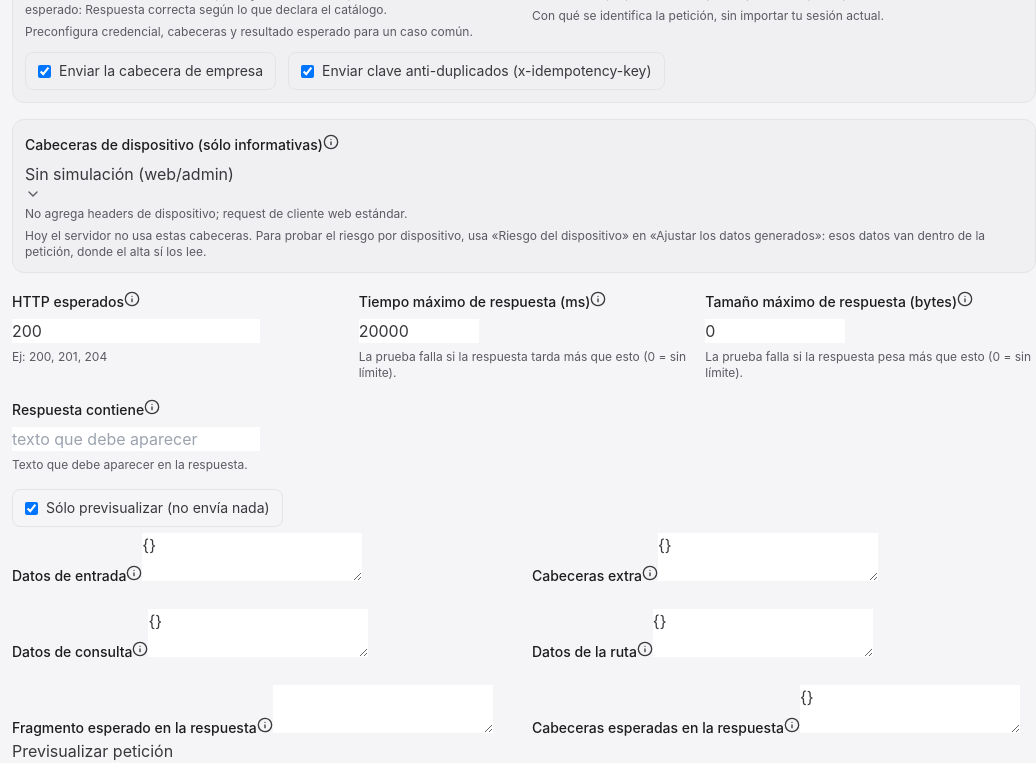
EndpointTestCard · errores visibles (RESUELTO_ATLAS_F1_R7) › un formulario inválido se rechaza ANTES de abrir el diálogo, y se lee
The image size is (1036, 763).
(page scrolled)
Replace the text in the text box labelled "Datos de entrada" with "no soy json": (252, 557) [142, 533, 362, 581]
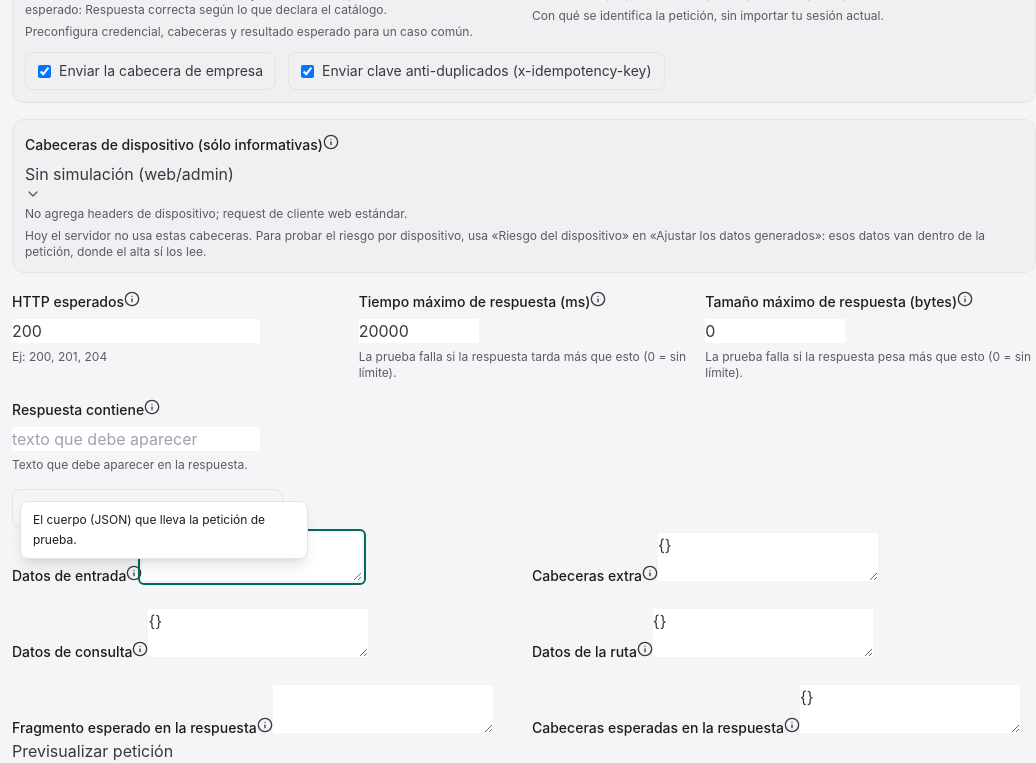
Click the button "Previsualizar petición": (93, 751) [12, 739, 173, 762]
(page scrolled)
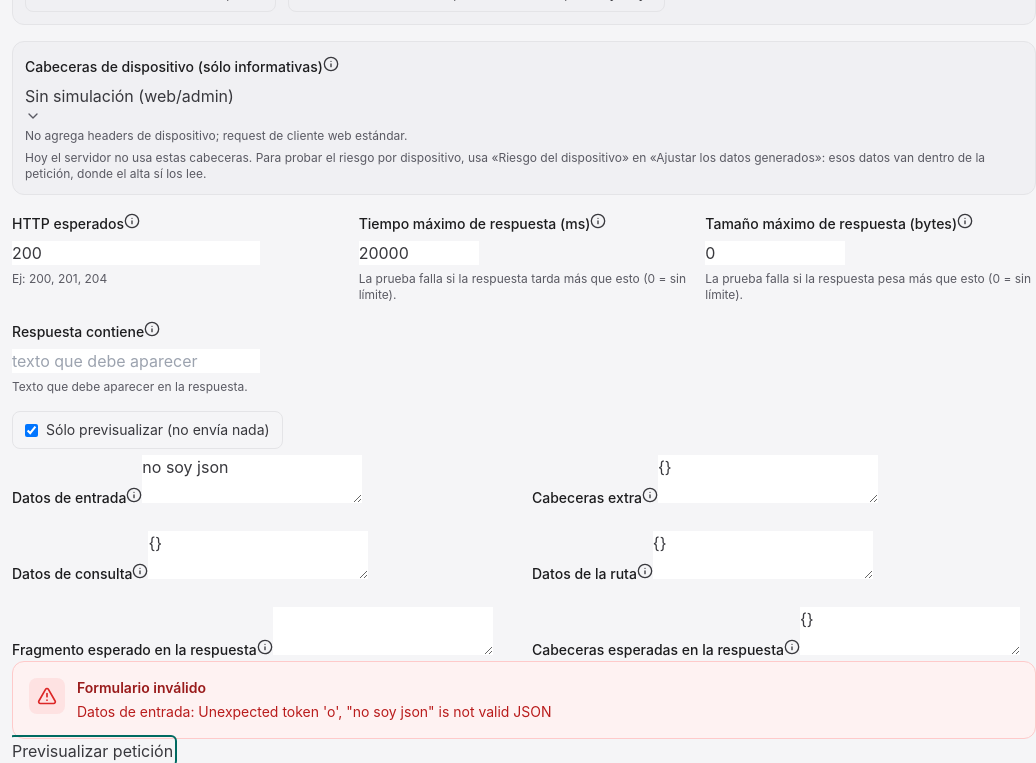
Check: the heading "Formulario inválido" is shown, box [77, 679, 206, 696]
